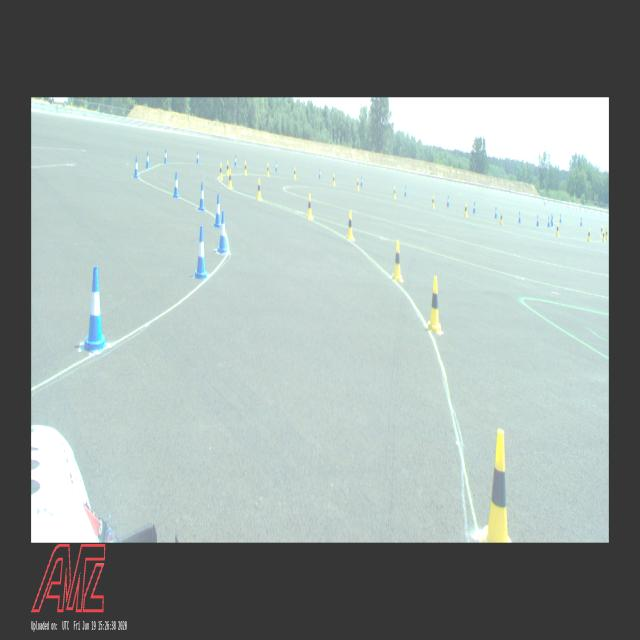blue_cone: (85, 266, 106, 350), (194, 226, 207, 280), (218, 211, 228, 253), (214, 194, 221, 228), (198, 182, 206, 210), (173, 172, 179, 198), (134, 157, 138, 178), (146, 150, 150, 168), (164, 149, 168, 163), (197, 150, 200, 163), (234, 154, 237, 167), (494, 206, 497, 218), (548, 215, 550, 228), (518, 212, 520, 224), (473, 202, 475, 214), (276, 161, 278, 172), (536, 215, 538, 226), (447, 196, 449, 207), (361, 176, 363, 186), (404, 186, 406, 196), (319, 168, 321, 178), (552, 216, 554, 226), (550, 214, 552, 224), (580, 218, 582, 226), (560, 214, 562, 222)
yellow_cone: (479, 429, 512, 542), (428, 276, 441, 332), (392, 240, 402, 280), (346, 211, 354, 240), (306, 193, 312, 220), (257, 178, 261, 200), (228, 169, 232, 189), (226, 160, 230, 177), (463, 203, 468, 216), (219, 163, 223, 179), (266, 163, 270, 176), (431, 195, 435, 208), (556, 222, 560, 235), (587, 228, 591, 240), (499, 212, 503, 224), (244, 160, 247, 174), (604, 230, 608, 240), (602, 230, 605, 242), (294, 167, 296, 179), (394, 186, 396, 198), (333, 174, 335, 186), (357, 179, 359, 190), (600, 226, 602, 236), (605, 226, 607, 234)
